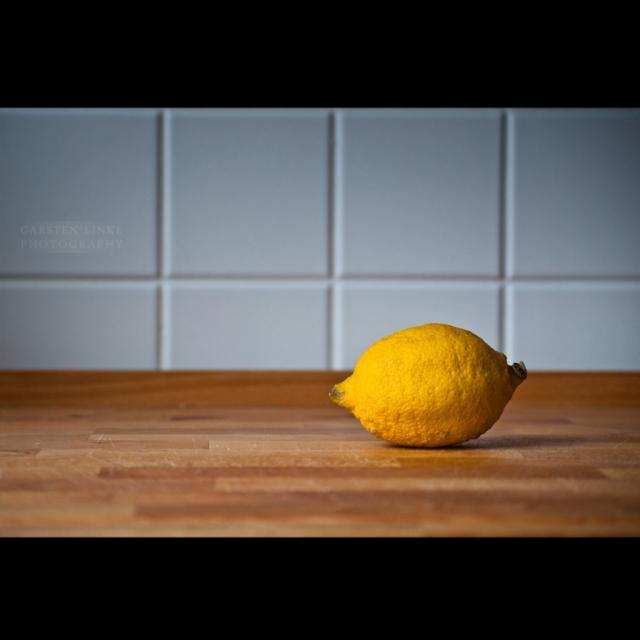Orange: (329, 326, 532, 448)
